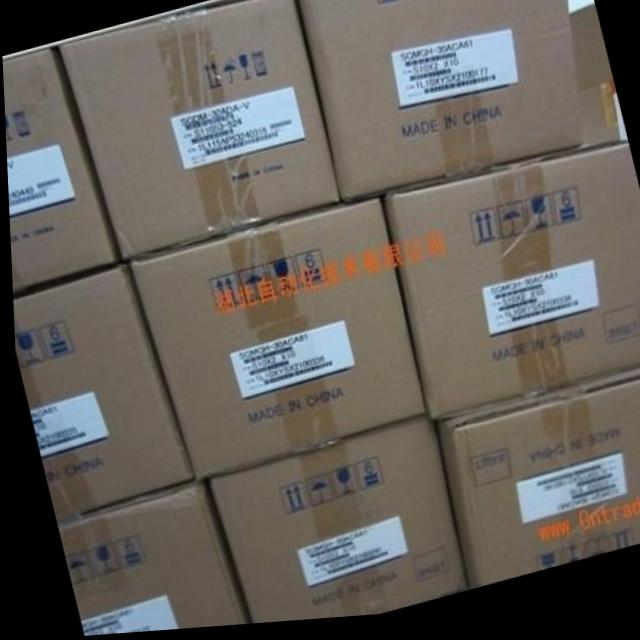box: (127, 202, 424, 481), (56, 0, 337, 261), (379, 148, 640, 426), (296, 0, 580, 210), (202, 420, 460, 627), (10, 262, 193, 527), (433, 375, 640, 594), (54, 481, 247, 637), (2, 47, 121, 291), (567, 13, 625, 156), (624, 150, 640, 259)
